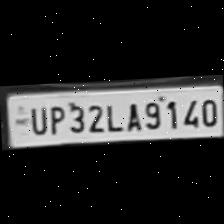0: (196, 94, 218, 128)
1: (160, 96, 180, 130)
2: (84, 100, 104, 132)
3: (64, 99, 84, 133)
4: (178, 95, 198, 129)
9: (138, 97, 162, 130)
A: (121, 98, 141, 132)
L: (102, 100, 122, 132)
P: (44, 102, 66, 134)
U: (26, 102, 46, 134)
